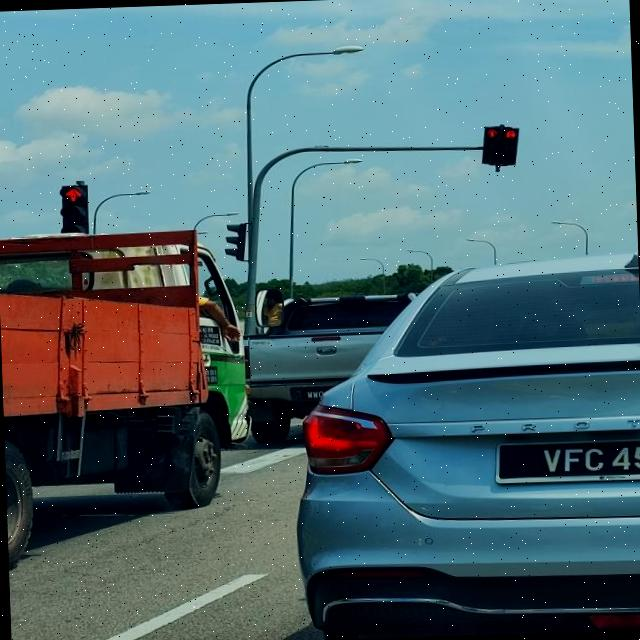red_light: (59, 185, 90, 238), (481, 124, 505, 164), (500, 124, 520, 166)
